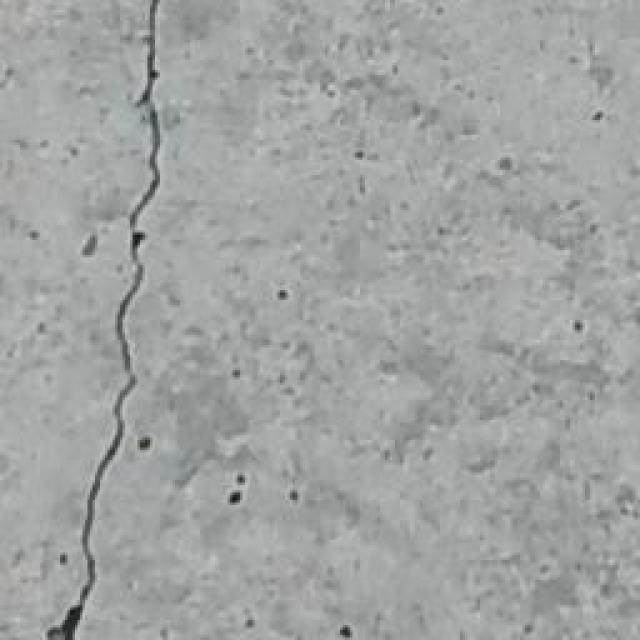concrete-crack: (45, 0, 162, 640)
